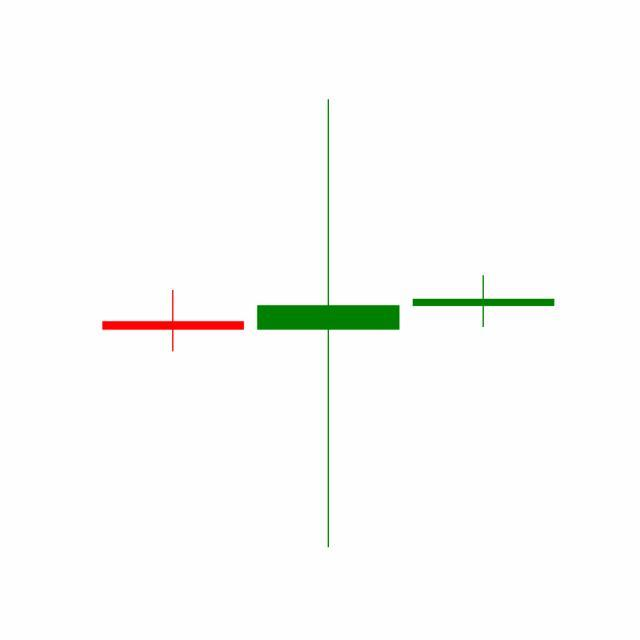Gravestone Doji: (406, 276, 562, 330)
